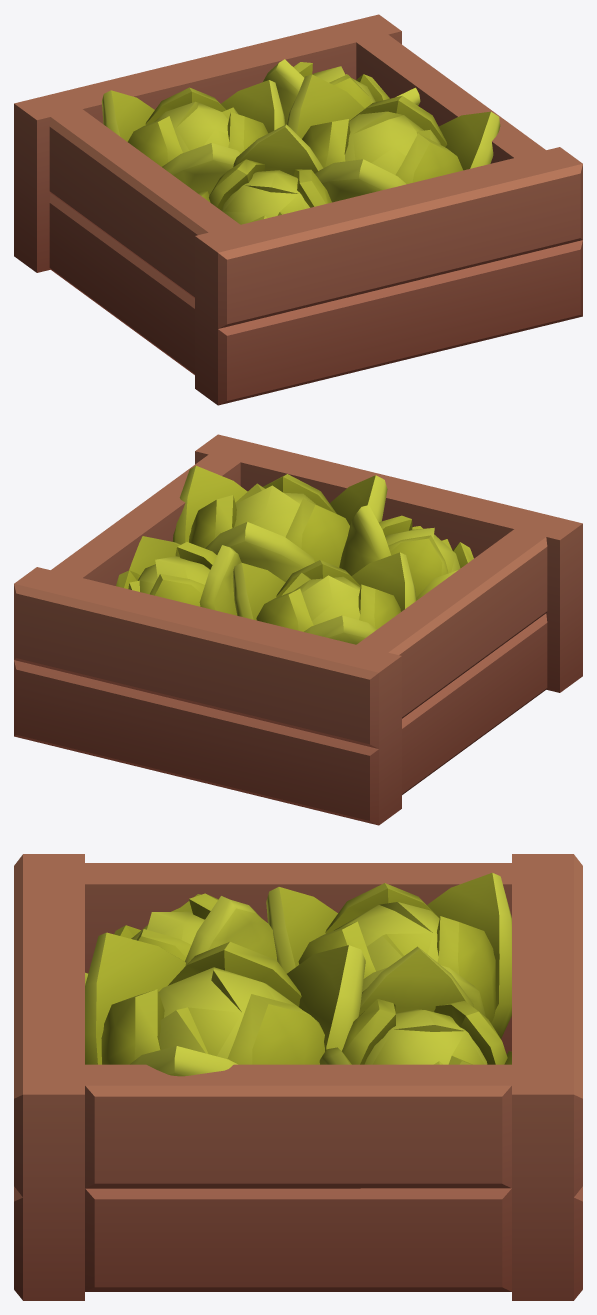
The model's file is crate_lettuce.glb.
3 views of the same model, one above another, from view 1: azimuth 30°, elevation 25°; view 2: azimuth 150°, elevation 25°; view 3: azimuth 270°, elevation 25° (orthographic). The views are drawn at different scales.
Parts seen in each view (by area): view 1: crate_lettuce_Cube.227; view 2: crate_lettuce_Cube.227; view 3: crate_lettuce_Cube.227.
Boxes of the visible parts, bbox=[...] form: crate_lettuce_Cube.227: bbox=[14, 14, 582, 405]; crate_lettuce_Cube.227: bbox=[14, 434, 582, 825]; crate_lettuce_Cube.227: bbox=[14, 854, 582, 1300].
Size of the model in its own units: 2 by 0.9981 by 2.
1 material, 1 textured.
